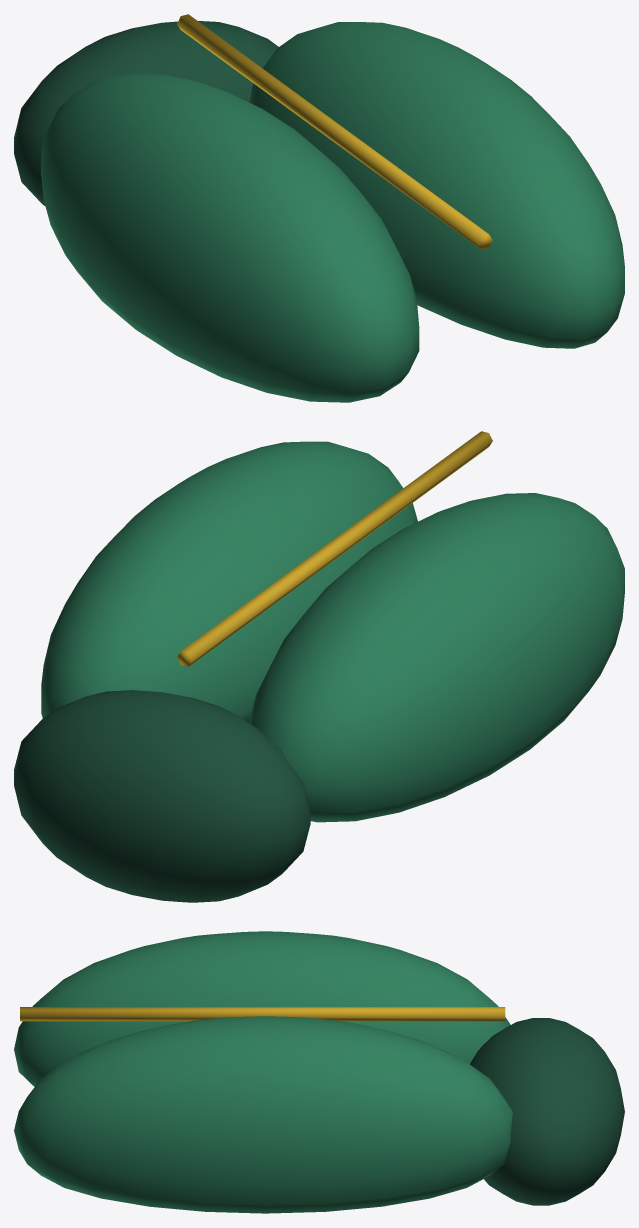
The model's file is nest-beetleshell.glb.
3 renders of one model, top to bottom at view 1: azimuth 30°, elevation 25°; view 2: azimuth 150°, elevation 25°; view 3: azimuth 270°, elevation 25°, orthographic. The views are drawn at different scales.
Visible parts, largest first — view 1: BeetleShell__ElytronL, BeetleShell__ElytronR, BeetleShell__Pronotum, BeetleShell__Seam; view 2: BeetleShell__ElytronL, BeetleShell__ElytronR, BeetleShell__Pronotum, BeetleShell__Seam; view 3: BeetleShell__ElytronR, BeetleShell__ElytronL, BeetleShell__Pronotum, BeetleShell__Seam.
Boxes of the visible parts, <box> form: BeetleShell__ElytronL: <box>41,73,419,402</box>; BeetleShell__ElytronR: <box>249,22,624,348</box>; BeetleShell__Pronotum: <box>14,21,278,206</box>; BeetleShell__Seam: <box>177,14,492,249</box>; BeetleShell__ElytronL: <box>249,493,624,822</box>; BeetleShell__ElytronR: <box>41,441,417,722</box>; BeetleShell__Pronotum: <box>14,690,310,902</box>; BeetleShell__Seam: <box>177,431,492,666</box>; BeetleShell__ElytronR: <box>14,1016,512,1213</box>; BeetleShell__ElytronL: <box>14,931,510,1086</box>; BeetleShell__Pronotum: <box>470,1018,624,1205</box>; BeetleShell__Seam: <box>20,1007,505,1021</box>.
Size of the model in its own units: 6.61 by 3.79 by 10.2.
